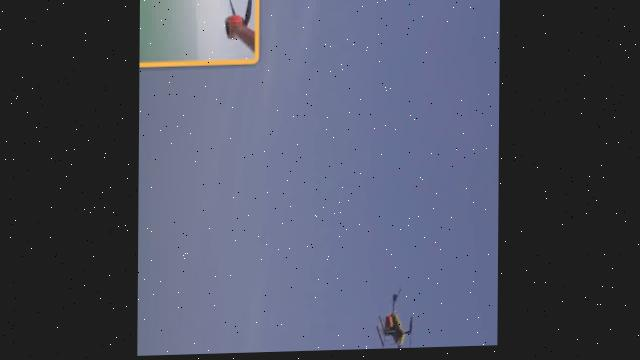drone: (367, 269, 422, 351)
